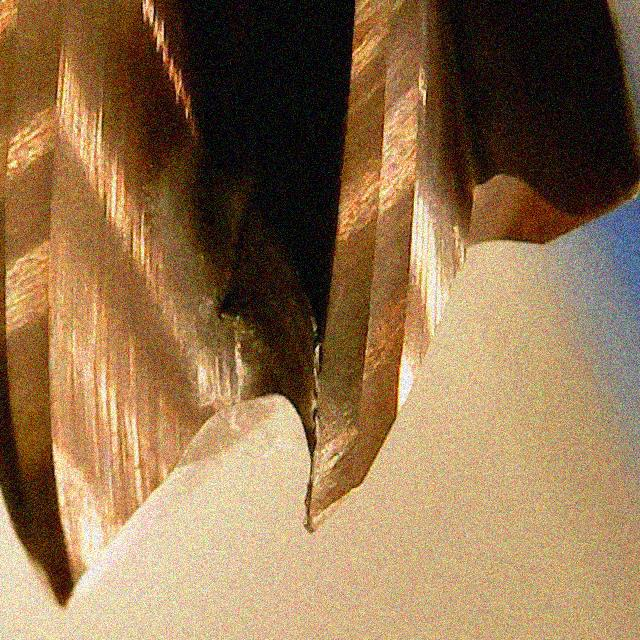Tool-wear-class-1: (293, 291, 413, 537)
